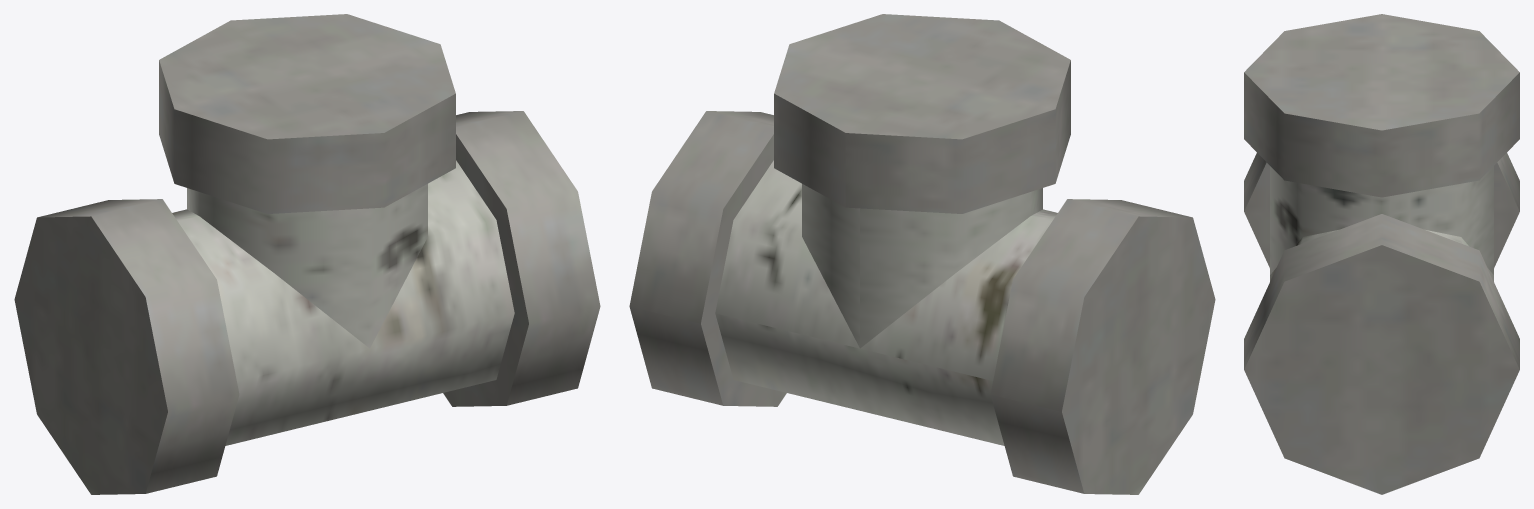
Rendered from p6_garage_pipes_t_LOD0.obj.
3 views of the same model, side by side, from view 1: azimuth 30°, elevation 25°; view 2: azimuth 150°, elevation 25°; view 3: azimuth 270°, elevation 25° (orthographic). The views are drawn at different scales.
Parts seen in each view (by area): view 1: mtl_p6_pipes_garage; view 2: mtl_p6_pipes_garage; view 3: mtl_p6_pipes_garage.
Boxes of the visible parts, x1,y1,x2,y2 form: mtl_p6_pipes_garage: (14,14,600,494); mtl_p6_pipes_garage: (629,14,1215,494); mtl_p6_pipes_garage: (1244,14,1519,494).
Size of the model in its own units: 10.65 by 8.6 by 6.55.
